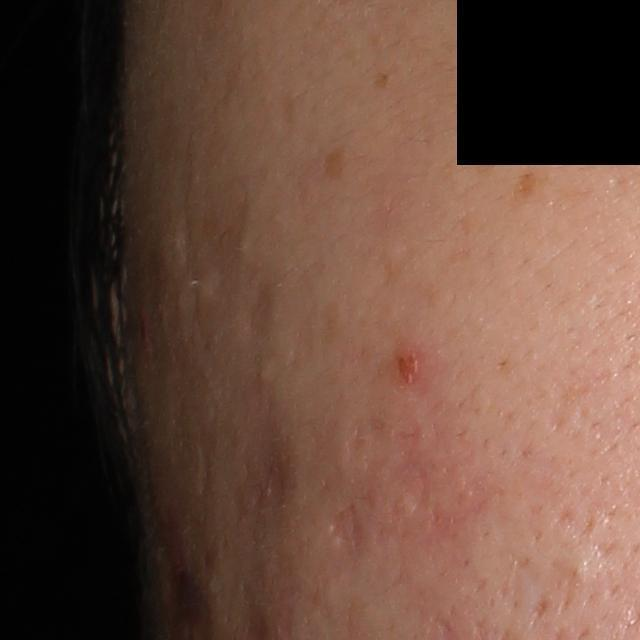atrophic_scar: (337, 409, 422, 526), (236, 415, 295, 518), (238, 275, 277, 356), (328, 498, 362, 553)
comedo: (256, 362, 272, 380)
melasma: (508, 171, 539, 208), (321, 142, 347, 182), (373, 68, 392, 90)
papule: (392, 342, 425, 386)
